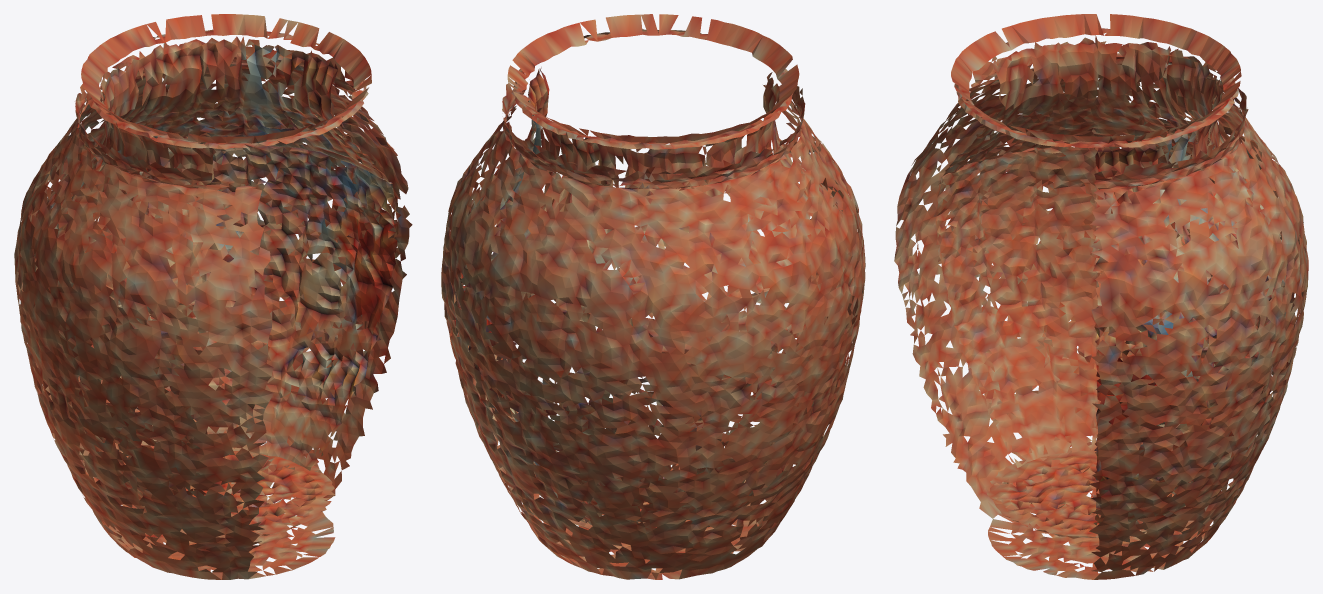
Rendered from vase2_final300.obj.
The picture shows the model from 3 angles, left to right: view 1: azimuth 30°, elevation 25°; view 2: azimuth 150°, elevation 25°; view 3: azimuth 270°, elevation 25°; orthographic projection.
Bounding box in the file's own units: 1.44 × 1.73 × 1.4.
